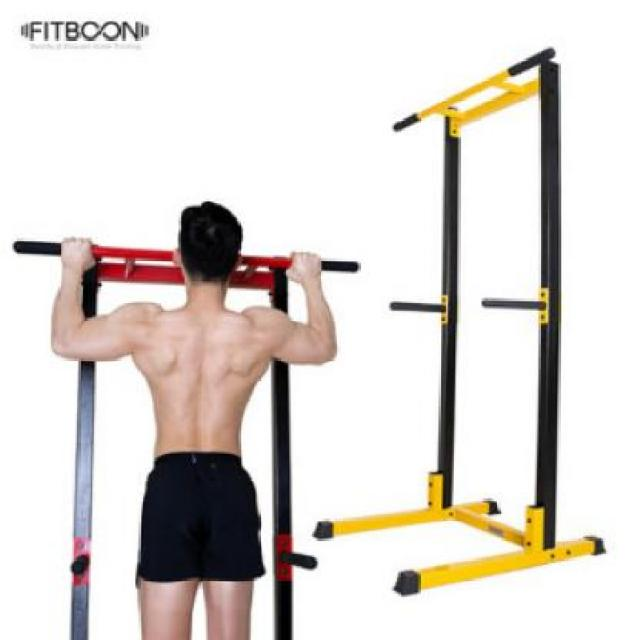chinning dipping: (314, 47, 609, 598)
